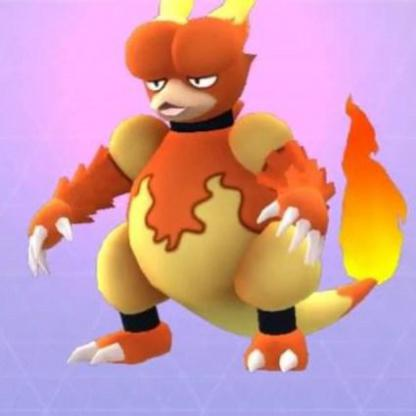Magmar: (17, 6, 402, 398)
